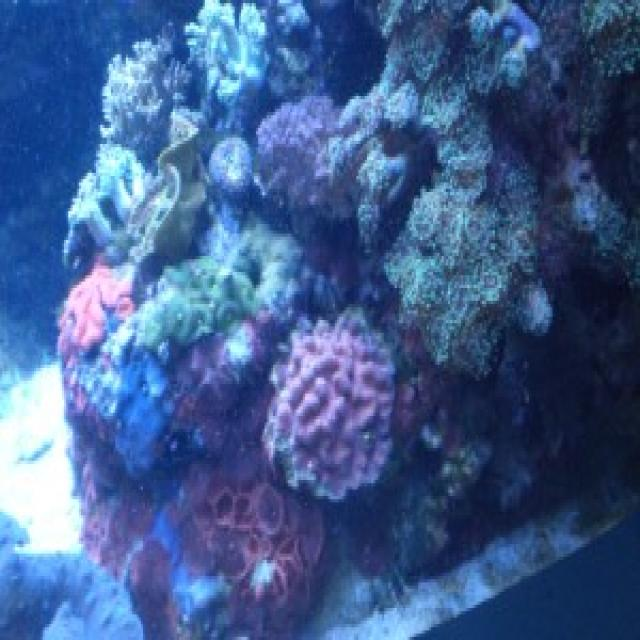Bleached: (385, 75, 534, 375), (65, 39, 204, 270), (187, 1, 268, 132)
Healthy: (59, 139, 344, 497), (71, 398, 323, 638), (513, 1, 639, 286), (263, 311, 394, 500), (351, 39, 421, 247), (255, 97, 338, 212)
